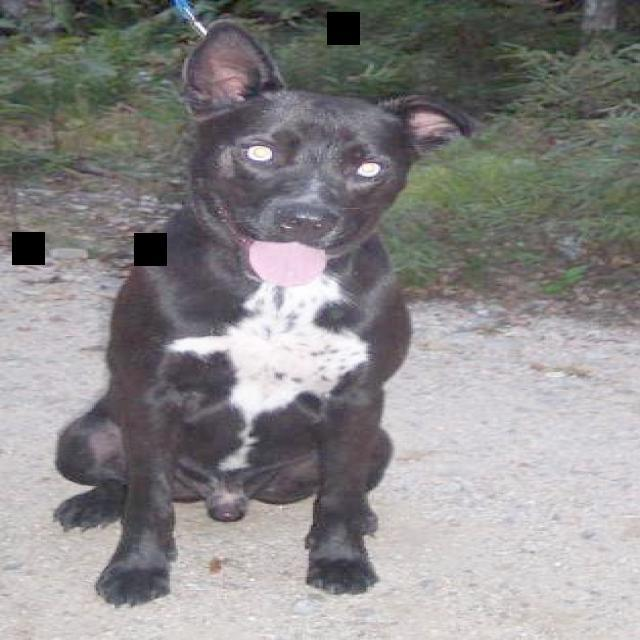adult_dog: (48, 20, 479, 611)
